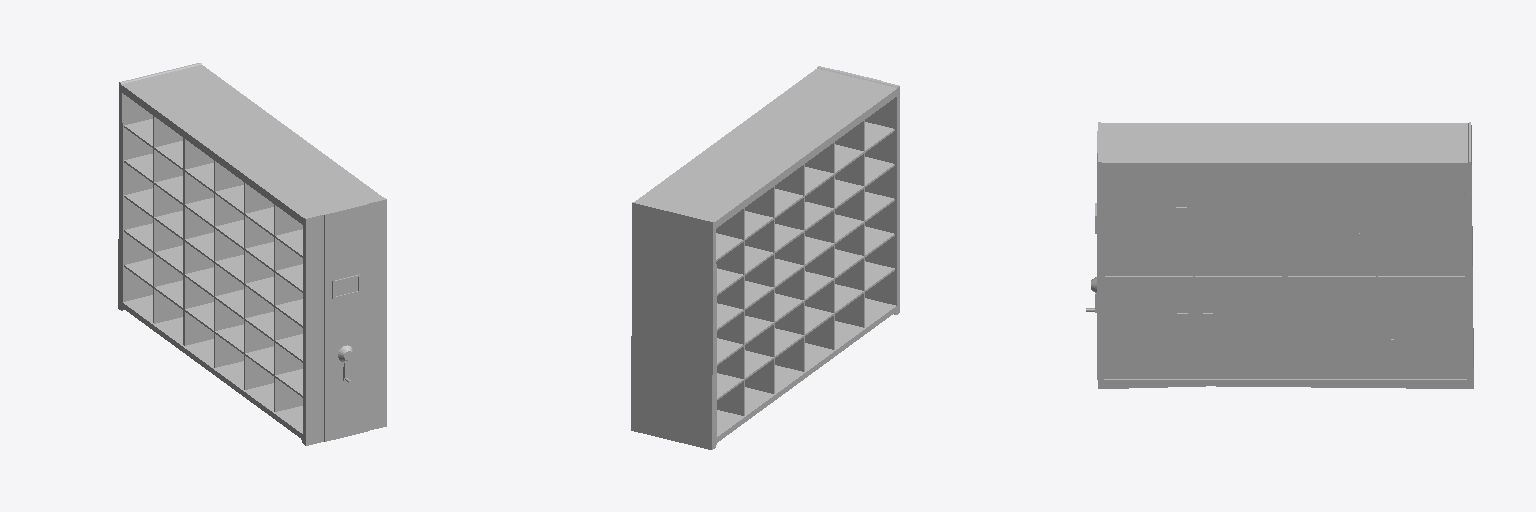
The model's file is mjjright6-6.obj.
3 renders of one model, left to right at view 1: azimuth 30°, elevation 25°; view 2: azimuth 150°, elevation 25°; view 3: azimuth 270°, elevation 25°, orthographic.
Parts seen in each view (by area): view 1: mjj, Mesh02; view 2: mjj; view 3: mjj.
Boxes of the visible parts, x1=… form: mjj: x1=118, y1=63, x2=386, y2=445; Mesh02: x1=332, y1=274, x2=360, y2=298; mjj: x1=631, y1=66, x2=899, y2=449; mjj: x1=1097, y1=122, x2=1473, y2=388.
Size of the model in its own units: 35.84 by 94.93 by 147.